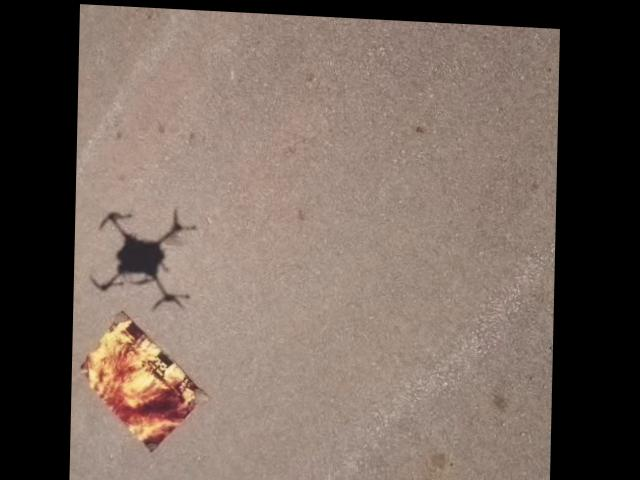fire-poster: (78, 305, 214, 453)
